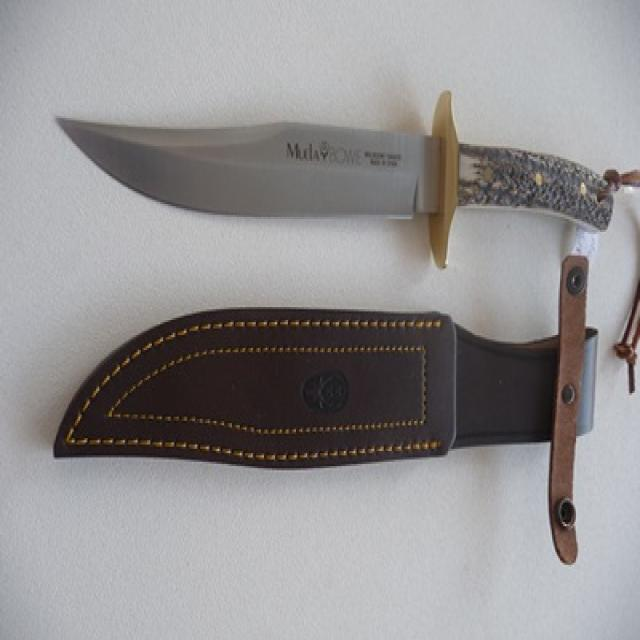knife: (49, 92, 620, 243)
